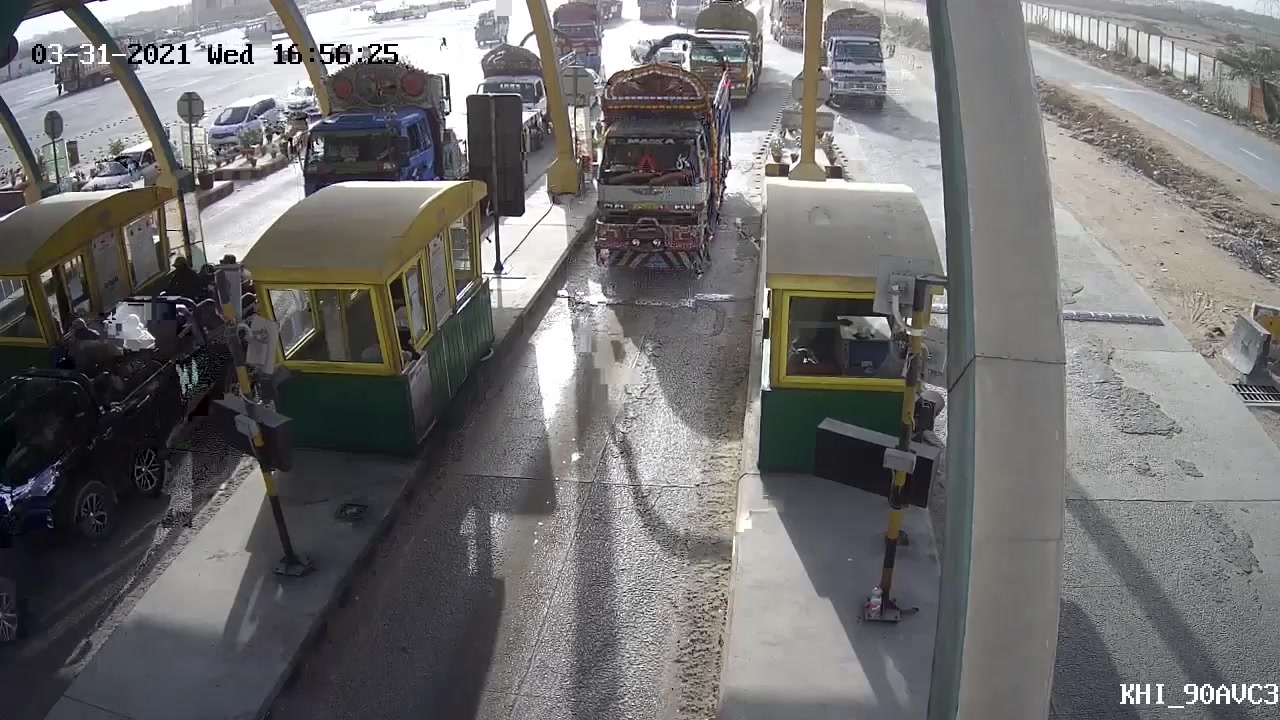F5: (568, 36, 739, 290)
